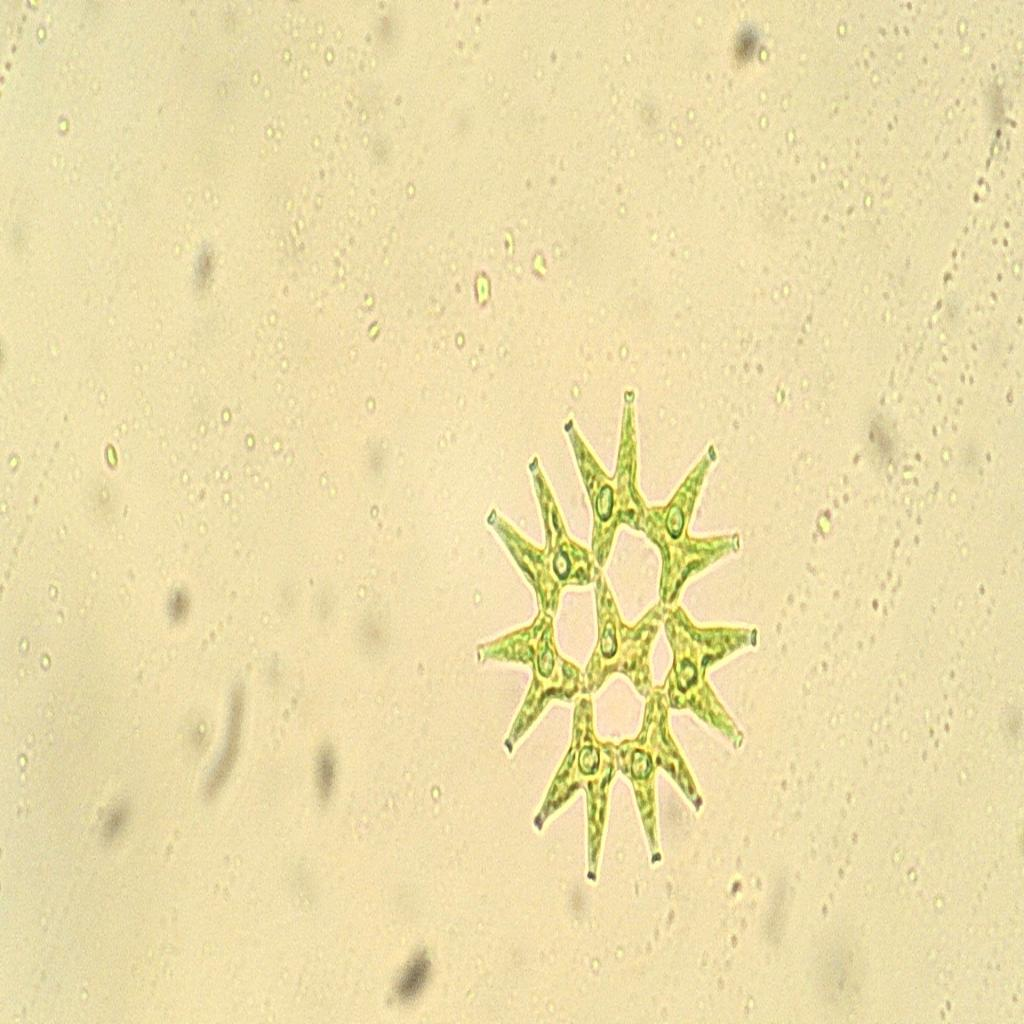Pediastrum_CTH: (470, 384, 767, 898)
